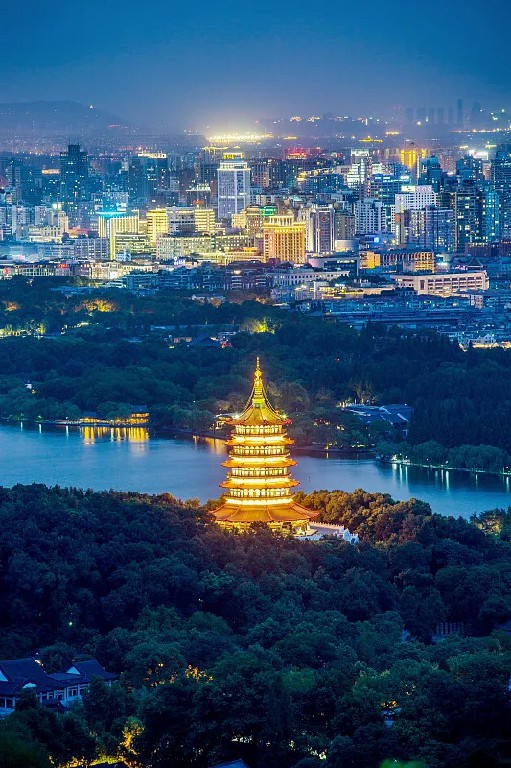Leifeng: (204, 355, 322, 542)
